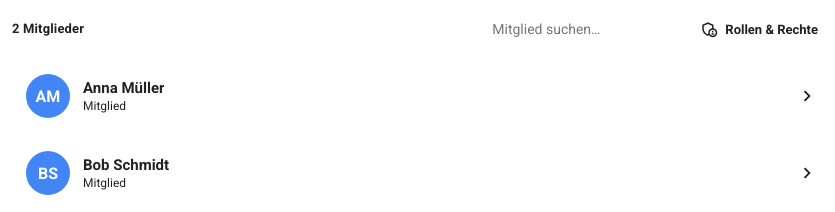
Test: MembersPage › updates the header count to reflect the active search filter
Expected: the text "2 Mitglieder" is shown, [12,19,84,39]
Type "Anna" into the search field with placeholder "Mitglied suchen…" at (578, 29), box [478,13,678,45]
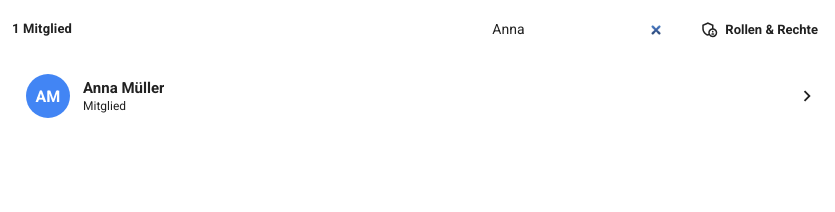
Expected: the text "1 Mitglied" is shown, [12,19,72,39]
Expected: the text "2 Mitglieder" is gone
